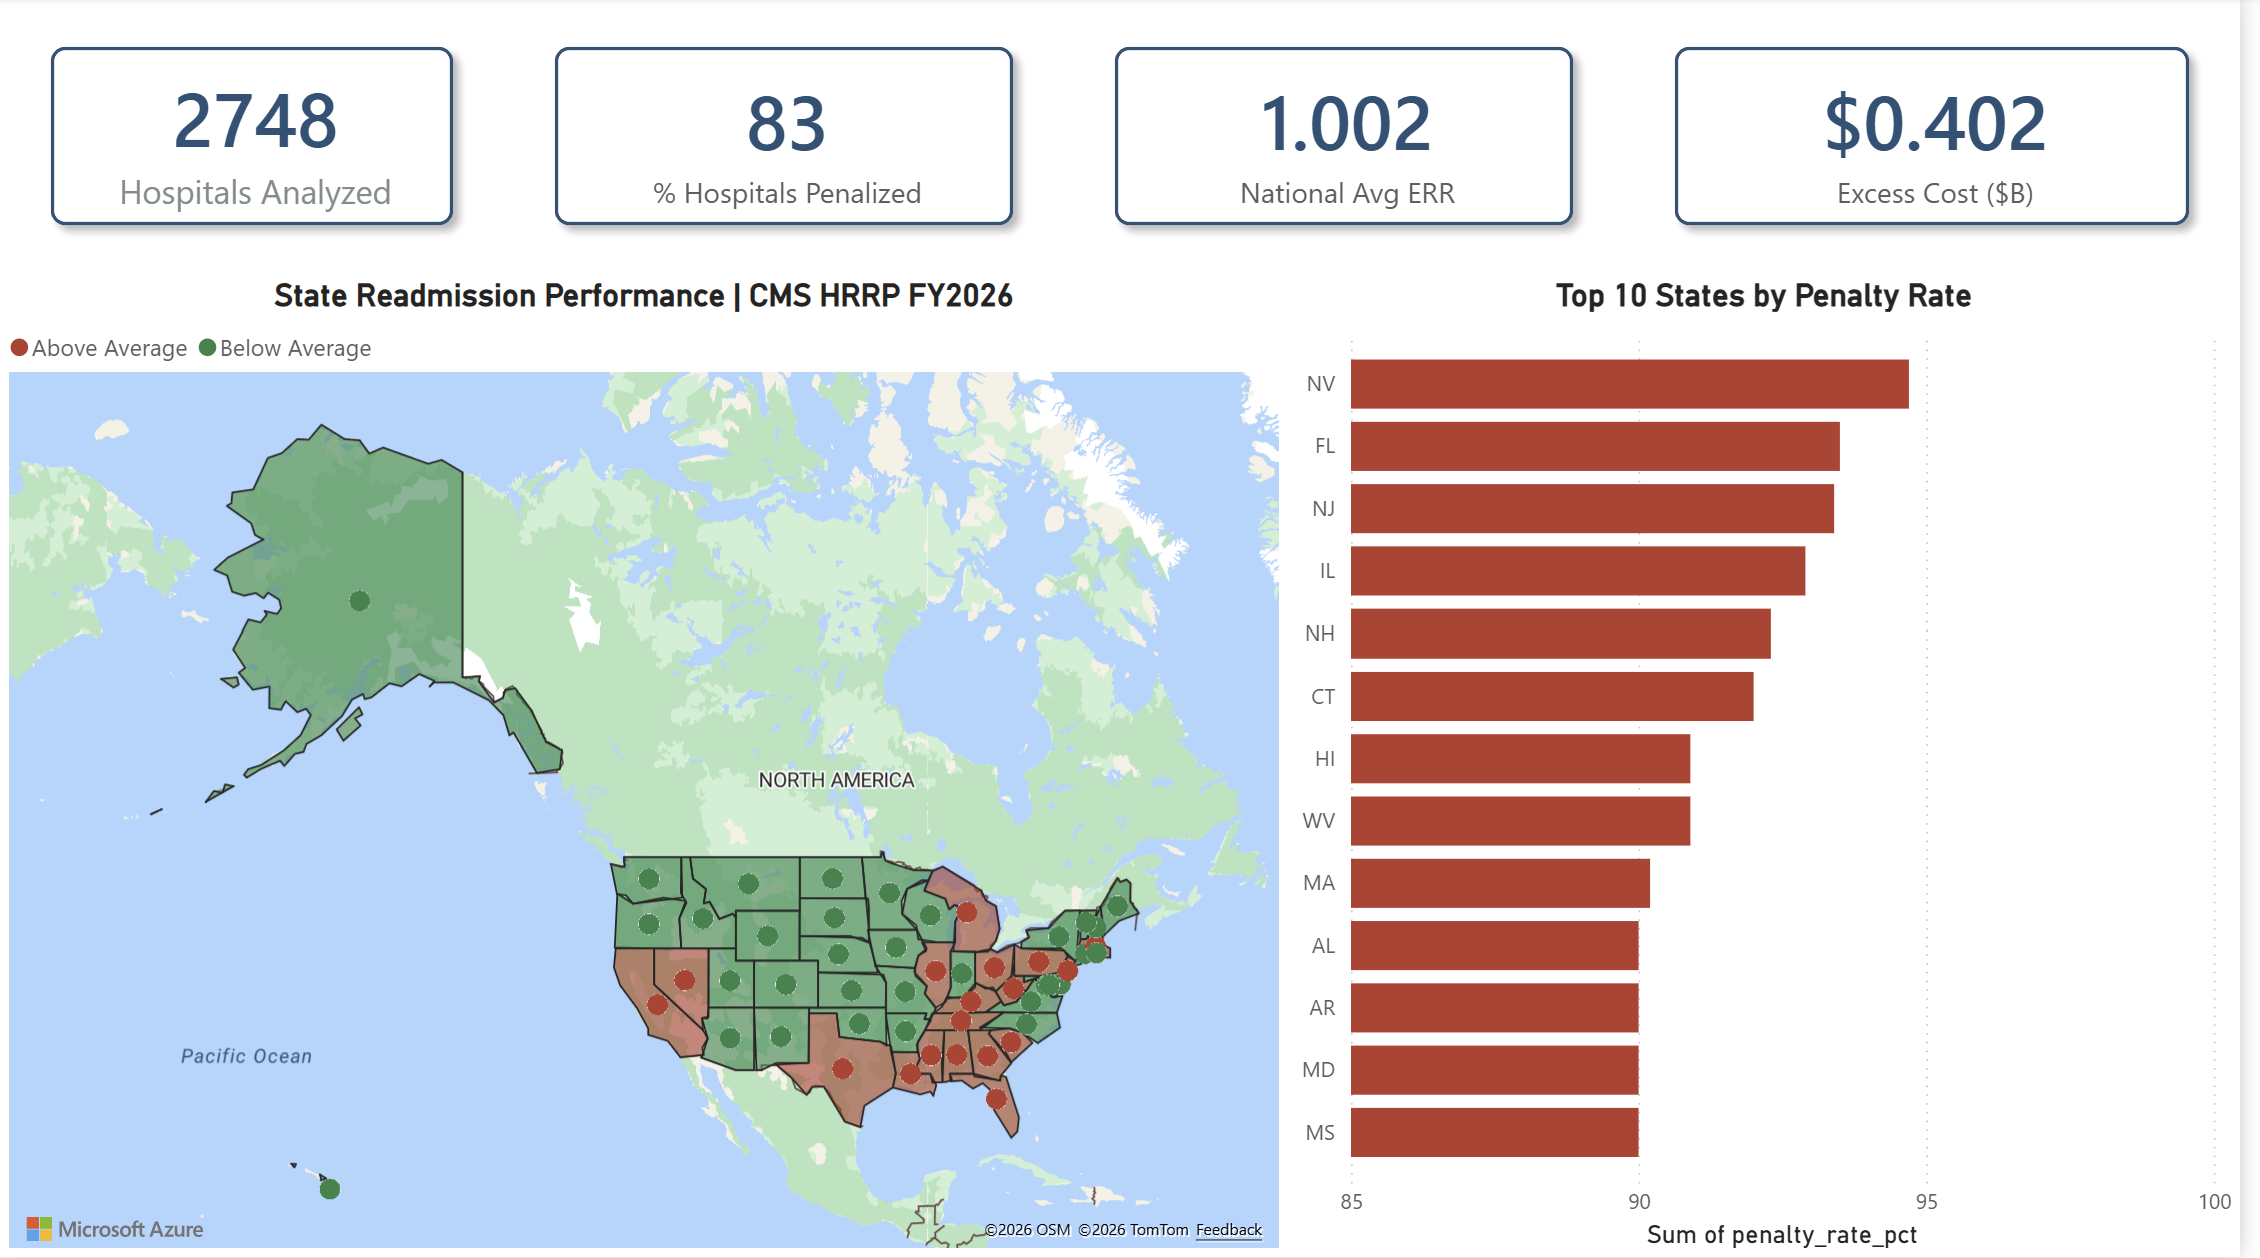

What the dashboard file says about the page in this screenshot:
{"tool":"powerbi","page":{"name":"Executive Overview","canvas":[1280,720],"ordinal":0},"visuals":[{"type":"cardVisual","fields":{"Data":["vw_executive_kpis.EO - Hospitals Analyzed"]},"box":[0,0,288,160],"z":0},{"type":"cardVisual","fields":{"Data":["vw_executive_kpis.EO - National Avg ERR"]},"box":[608,0,320,160],"z":1000},{"type":"cardVisual","fields":{"Data":["vw_executive_kpis.EO - Hospitals Penalized Pct"]},"box":[288,0,320,160],"z":2000},{"type":"cardVisual","fields":{"Data":["vw_executive_kpis.EO - Excess Cost"]},"box":[928,0,352,160],"z":3000},{"type":"azureMap","title":"State Readmission Performance | CMS HRRP FY2026","fields":{"Category":["vw_state_summary.state"],"Series":["vw_state_summary.performance_band"],"Size":["Sum(vw_state_summary.state_avg_err)"]},"box":[0,160,736,560],"z":4000},{"type":"clusteredBarChart","title":"Top 10 States by Penalty Rate","fields":{"Category":["vw_state_summary.state"],"Y":["Avg(vw_state_summary.penalty_rate_pct)"]},"box":[736,160,544,560],"z":5000}]}

Visuals, with their boxes in screenshot pixels (x1, y1, x2, y2), scaled from the page's 1280x720 canvas onto the 2260x1258 screenshot:
cardVisual - vw_executive_kpis.EO - Hospitals Analyzed: rect(0, 0, 508, 280)
cardVisual - vw_executive_kpis.EO - National Avg ERR: rect(1074, 0, 1638, 280)
cardVisual - vw_executive_kpis.EO - Hospitals Penalized Pct: rect(508, 0, 1074, 280)
cardVisual - vw_executive_kpis.EO - Excess Cost: rect(1638, 0, 2259, 280)
"State Readmission Performance | CMS HRRP FY2026" azureMap: rect(0, 280, 1300, 1257)
"Top 10 States by Penalty Rate" clusteredBarChart: rect(1300, 280, 2259, 1257)
